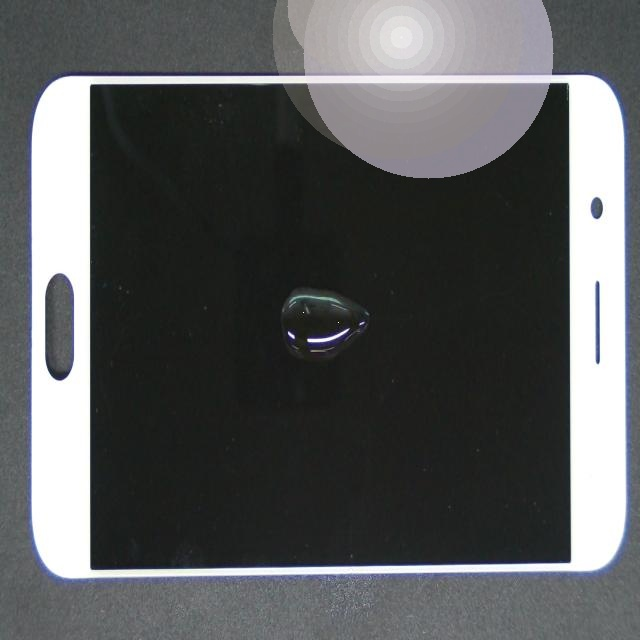oil: (163, 141, 446, 455)
